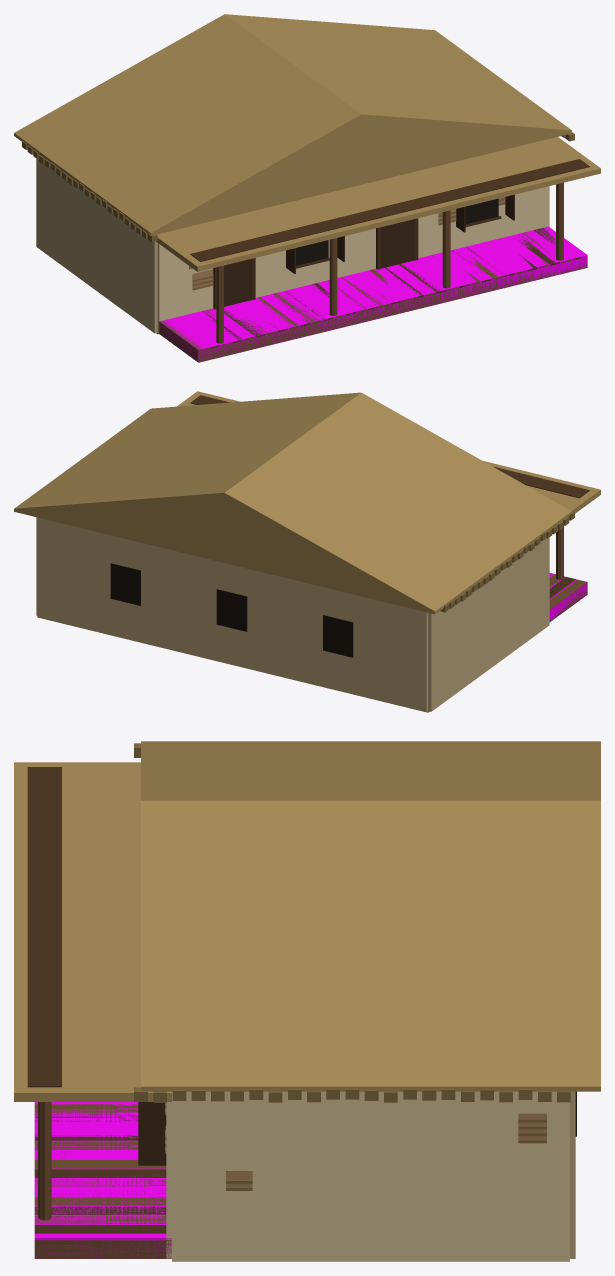
Rendered from barrio-abajo-casa-corredor.glb.
3 views of the same model, one above another, from view 1: azimuth 30°, elevation 25°; view 2: azimuth 150°, elevation 25°; view 3: azimuth 270°, elevation 25° (orthographic). The views are drawn at different scales.
Visible parts, largest first — view 1: casa_corredor_Palma, COL_Corredor, casa_corredor_BahaqueSombra, casa_corredor_Bahareque, casa_corredor_Madera, casa_corredor_MaderaOscura, casa_corredor_Puerta, casa_corredor_Ventana, casa_corredor_PalmaOscura; view 2: casa_corredor_Palma, casa_corredor_BahaqueSombra, casa_corredor_Ventana, casa_corredor_MaderaOscura, casa_corredor_Madera, casa_corredor_PalmaOscura, COL_Corredor; view 3: casa_corredor_Palma, casa_corredor_Bahareque, casa_corredor_MaderaOscura, COL_Corredor, casa_corredor_Madera, casa_corredor_PalmaOscura, casa_corredor_Puerta, casa_corredor_BarroExpuesto, casa_corredor_BahaqueSombra, casa_corredor_CanaBrava.
Boxes of the visible parts, bbox=[...] form: casa_corredor_Palma: bbox=[14, 14, 600, 271]; COL_Corredor: bbox=[159, 226, 587, 361]; casa_corredor_BahaqueSombra: bbox=[36, 158, 157, 333]; casa_corredor_Bahareque: bbox=[157, 186, 549, 333]; casa_corredor_Madera: bbox=[159, 182, 587, 362]; casa_corredor_MaderaOscura: bbox=[190, 159, 589, 348]; casa_corredor_Puerta: bbox=[224, 194, 514, 306]; casa_corredor_Ventana: bbox=[296, 198, 498, 265]; casa_corredor_PalmaOscura: bbox=[22, 132, 574, 242]; casa_corredor_Palma: bbox=[14, 391, 600, 614]; casa_corredor_BahaqueSombra: bbox=[37, 517, 549, 712]; casa_corredor_Ventana: bbox=[110, 563, 353, 657]; casa_corredor_MaderaOscura: bbox=[190, 395, 589, 598]; casa_corredor_Madera: bbox=[549, 526, 587, 621]; casa_corredor_PalmaOscura: bbox=[440, 510, 574, 612]; COL_Corredor: bbox=[549, 573, 587, 621]; casa_corredor_Palma: bbox=[14, 741, 600, 1101]; casa_corredor_Bahareque: bbox=[166, 1091, 569, 1261]; casa_corredor_MaderaOscura: bbox=[27, 767, 166, 1233]; COL_Corredor: bbox=[34, 1102, 171, 1258]; casa_corredor_Madera: bbox=[34, 1102, 171, 1258]; casa_corredor_PalmaOscura: bbox=[134, 743, 570, 1102]; casa_corredor_Puerta: bbox=[138, 1102, 166, 1165]; casa_corredor_BarroExpuesto: bbox=[165, 1103, 546, 1187]; casa_corredor_BahaqueSombra: bbox=[570, 1091, 575, 1258]; casa_corredor_CanaBrava: bbox=[165, 1103, 546, 1190].
Size of the model in its own units: 11.96 by 4.84 by 8.55.
